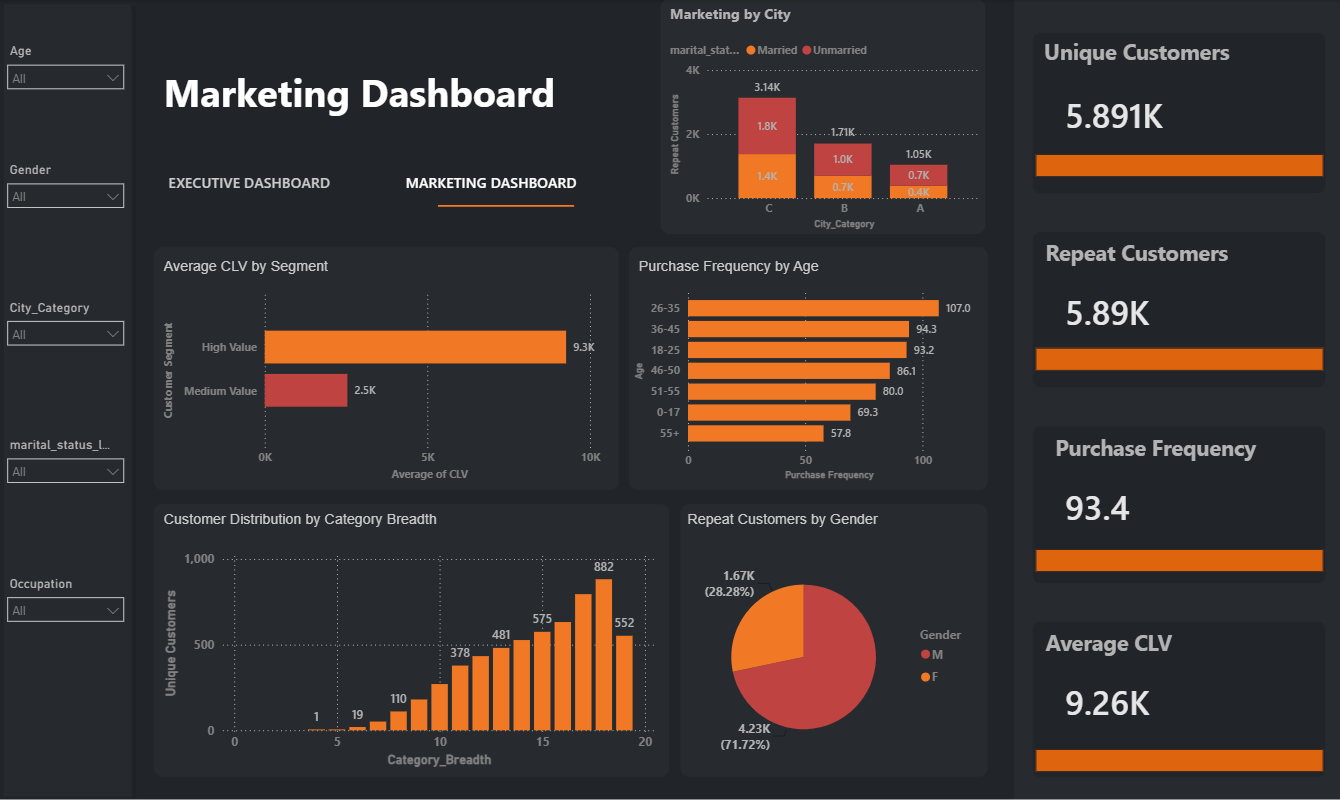

This screenshot's page, from the dashboard's own definition file:
{"tool":"powerbi","page":{"name":"MARKETING DASHBOARD","canvas":[1500,900],"ordinal":1},"visuals":[{"type":"pageNavigator","box":[150.7,173.1,531.8,62.8],"z":0},{"type":"textbox","box":[180.1,69.8,738.4,86.5],"z":1000},{"type":"textbox","box":[1162.7,37.7,217.7,46.1],"z":2000},{"type":"textbox","box":[1162.7,262.4,217.7,46.1],"z":3000},{"type":"textbox","box":[1162.7,480.2,259.6,46.1],"z":4000},{"type":"textbox","box":[1162.7,697.9,154.9,46.1],"z":5000},{"type":"cardVisual","fields":{"Data":["black_friday_sales_analysis black_friday_data.Unique Customers"]},"box":[1162.7,83.7,312.7,89.3],"z":6000},{"type":"cardVisual","fields":{"Data":["black_friday_sales_analysis black_friday_data.Repeat Customers"]},"box":[1162.7,308.5,312.7,81],"z":7000},{"type":"cardVisual","fields":{"Data":["black_friday_sales_analysis black_friday_data.Purchase Frequency"]},"box":[1162.7,526.2,312.7,81],"z":8000},{"type":"cardVisual","fields":{"Data":["Avg(black_friday_sales_analysis black_friday_data.CLV)"]},"box":[1162.7,744,312.7,81],"z":9000},{"type":"clusteredBarChart","fields":{"Category":["black_friday_sales_analysis black_friday_data.Customer Segment"],"Y":["Avg(black_friday_sales_analysis black_friday_data.CLV)"]},"box":[180.1,314.1,502.5,228.9],"z":10000},{"type":"textbox","box":[180.1,284.7,194,29.3],"z":11000},{"type":"textbox","box":[180.1,566.7,476,29.3],"z":12000},{"type":"textbox","box":[710.5,284.7,224.7,29.3],"z":13000},{"type":"textbox","box":[764.9,566.7,247.1,29.3],"z":14000},{"type":"clusteredColumnChart","fields":{"Category":["black_friday_sales_analysis black_friday_data.Category_Breadth"],"Y":["black_friday_sales_analysis black_friday_data.Unique Customers"]},"box":[180.1,607.2,559.7,255.4],"z":15000},{"type":"pieChart","fields":{"Category":["black_friday_sales_analysis black_friday_data.Gender"],"Y":["black_friday_sales_analysis black_friday_data.Repeat Customers"]},"box":[764.9,607.2,337.8,255.4],"z":16000},{"type":"barChart","fields":{"Category":["black_friday_sales_analysis black_friday_data.Age"],"Y":["black_friday_sales_analysis black_friday_data.Purchase Frequency"]},"box":[704.9,314.1,397.8,228.9],"z":17000},{"type":"shape","box":[739.8,0,362.9,262.4],"z":17001},{"type":"textbox","box":[745.4,0,175.9,44.7],"z":17002},{"type":"columnChart","fields":{"Category":["black_friday_sales_analysis black_friday_data.City_Category"],"Series":["black_friday_sales_analysis black_friday_data.marital_status_label"],"Y":["black_friday_sales_analysis black_friday_data.Repeat Customers"]},"box":[745.4,37.7,357.3,224.7],"z":17003},{"type":"shape","box":[491.3,199.6,152.1,62.8],"z":17004},{"type":"slicer","fields":{"Values":["black_friday_sales_analysis black_friday_data.Age"]},"box":[0,44.7,150.7,58.6],"z":17005},{"type":"slicer","fields":{"Values":["black_friday_sales_analysis black_friday_data.Gender"]},"box":[0,177.3,150.7,58.6],"z":17006},{"type":"slicer","fields":{"Values":["black_friday_sales_analysis black_friday_data.City_Category"]},"box":[0,330.8,150.7,58.6],"z":17007},{"type":"slicer","fields":{"Values":["black_friday_sales_analysis black_friday_data.marital_status_label"]},"box":[0,484.3,150.7,58.6],"z":17008},{"type":"slicer","fields":{"Values":["black_friday_sales_analysis black_friday_data.Occupation"]},"box":[0,639.3,150.7,58.6],"z":17009},{"type":"shape","box":[1157.8,173.7,321.6,25.7],"z":17010},{"type":"shape","box":[1157.8,389.2,321.6,25.7],"z":17011},{"type":"shape","box":[1157.8,614.3,321.6,25.7],"z":17012},{"type":"shape","box":[1157.8,837.8,321.6,25.7],"z":17013}]}

Visuals, with their boxes in screenshot pixels (x1, y1, x2, y2), scaled from the page's 1500x900 canvas onto the 1340x802 screenshot:
pageNavigator: BBox(135, 154, 610, 210)
textbox: BBox(161, 62, 821, 139)
textbox: BBox(1039, 34, 1233, 75)
textbox: BBox(1039, 234, 1233, 275)
textbox: BBox(1039, 428, 1271, 469)
textbox: BBox(1039, 622, 1177, 663)
cardVisual - black_friday_sales_analysis black_friday_data.Unique Customers: BBox(1039, 75, 1318, 154)
cardVisual - black_friday_sales_analysis black_friday_data.Repeat Customers: BBox(1039, 275, 1318, 347)
cardVisual - black_friday_sales_analysis black_friday_data.Purchase Frequency: BBox(1039, 469, 1318, 541)
cardVisual - Avg(black_friday_sales_analysis black_friday_data.CLV): BBox(1039, 663, 1318, 735)
clusteredBarChart - black_friday_sales_analysis black_friday_data.Customer Segment x Avg(black_friday_sales_analysis black_friday_data.CLV): BBox(161, 280, 610, 484)
textbox: BBox(161, 254, 334, 280)
textbox: BBox(161, 505, 586, 531)
textbox: BBox(635, 254, 835, 280)
textbox: BBox(683, 505, 904, 531)
clusteredColumnChart - black_friday_sales_analysis black_friday_data.Category_Breadth x black_friday_sales_analysis black_friday_data.Unique Customers: BBox(161, 541, 661, 769)
pieChart - black_friday_sales_analysis black_friday_data.Gender x black_friday_sales_analysis black_friday_data.Repeat Customers: BBox(683, 541, 985, 769)
barChart - black_friday_sales_analysis black_friday_data.Age x black_friday_sales_analysis black_friday_data.Purchase Frequency: BBox(630, 280, 985, 484)
shape: BBox(661, 0, 985, 234)
textbox: BBox(666, 0, 823, 40)
columnChart - black_friday_sales_analysis black_friday_data.City_Category x black_friday_sales_analysis black_friday_data.marital_status_label: BBox(666, 34, 985, 234)
shape: BBox(439, 178, 575, 234)
slicer - black_friday_sales_analysis black_friday_data.Age: BBox(0, 40, 135, 92)
slicer - black_friday_sales_analysis black_friday_data.Gender: BBox(0, 158, 135, 210)
slicer - black_friday_sales_analysis black_friday_data.City_Category: BBox(0, 295, 135, 347)
slicer - black_friday_sales_analysis black_friday_data.marital_status_label: BBox(0, 432, 135, 484)
slicer - black_friday_sales_analysis black_friday_data.Occupation: BBox(0, 570, 135, 622)
shape: BBox(1034, 155, 1322, 178)
shape: BBox(1034, 347, 1322, 370)
shape: BBox(1034, 547, 1322, 570)
shape: BBox(1034, 747, 1322, 769)
